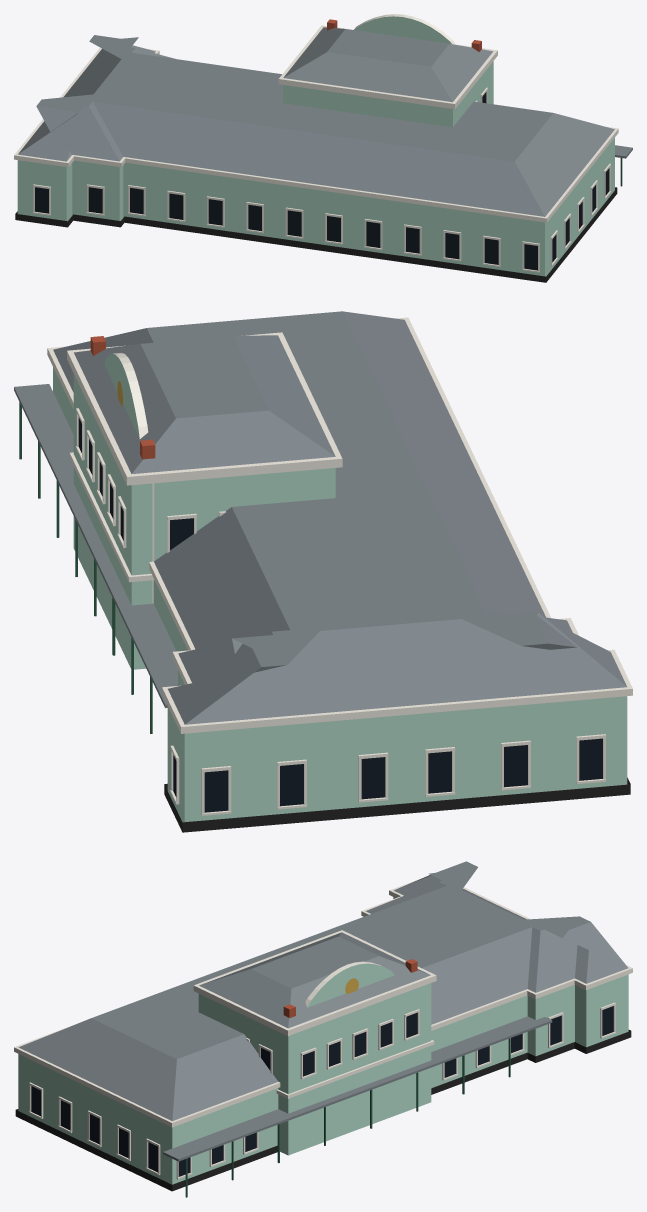
The model's file is theatre-hi.glb.
3 renders of one model, top to bottom at view 1: azimuth 30°, elevation 25°; view 2: azimuth 150°, elevation 25°; view 3: azimuth 270°, elevation 25°, orthographic. The views are drawn at different scales.
Parts seen in each view (by area): view 1: lm-theatre; view 2: lm-theatre; view 3: lm-theatre.
Part boxes in pixels (x1,y1,x2,y2): lm-theatre: (14,14,632,282); lm-theatre: (14,311,632,832); lm-theatre: (14,861,632,1197).
Bounding box in the file's own units: 49.78 × 14.2 × 50.33.
